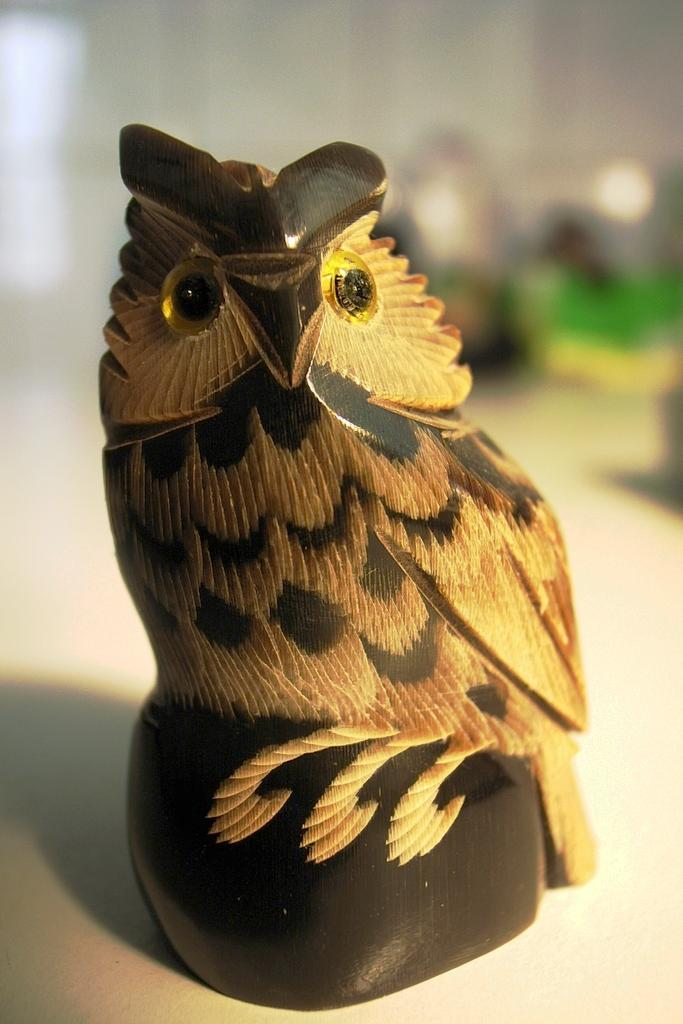Owl: (96, 120, 602, 886)
